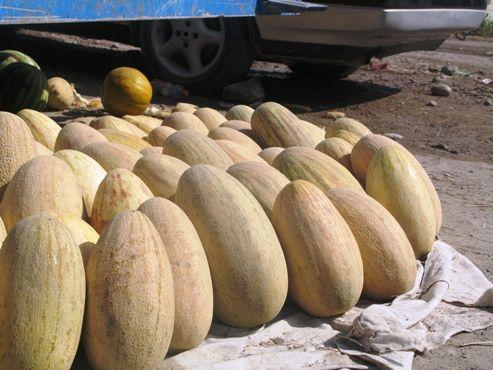melon: (0, 104, 439, 366)
